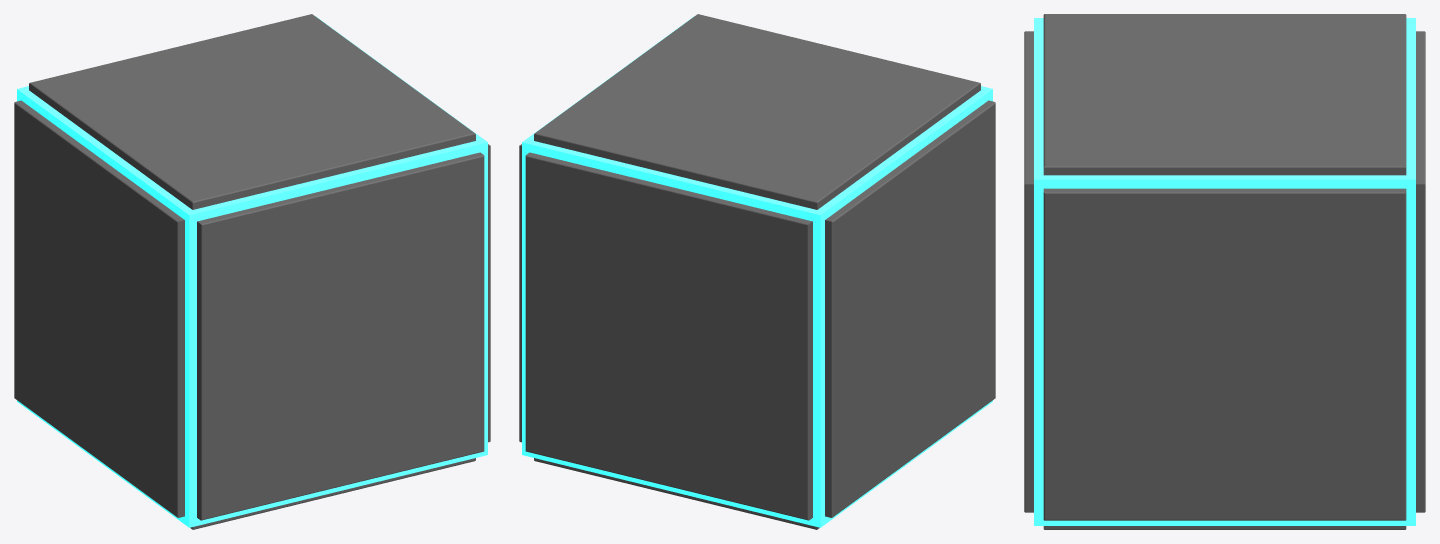
The model's file is FloatingCubeV1.fbx.
The picture shows the model from 3 angles, left to right: view 1: azimuth 30°, elevation 25°; view 2: azimuth 150°, elevation 25°; view 3: azimuth 270°, elevation 25°; orthographic projection. The views are drawn at different scales.
Visible parts, largest first — view 1: Cube; view 2: Cube; view 3: Cube.
Part boxes in pixels (box(x1,y1,x2,y2)): Cube: box(14, 14, 490, 529); Cube: box(519, 14, 995, 529); Cube: box(1024, 14, 1425, 529).
Bounding box in the file's own units: 1050 × 1050 × 1050.
